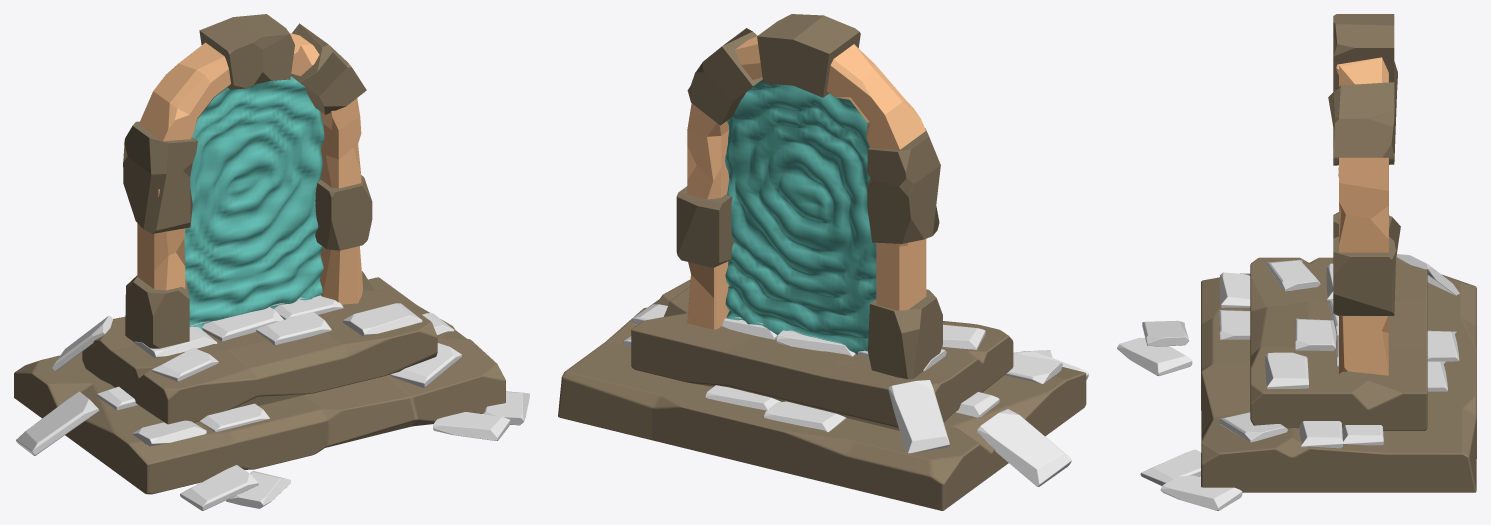
Rendered from Portal.FBX.
3 views of the same model, side by side, from view 1: azimuth 30°, elevation 25°; view 2: azimuth 150°, elevation 25°; view 3: azimuth 270°, elevation 25° (orthographic). The views are drawn at different scales.
Visible parts, largest first — view 1: Plane.003, Plane.004, Plane.001, Plane.002, Plane, Cube.009, Cube.019, Cube.016, Stone Slab, Cube.015, Cube.003, Cube.007 (+9 smaller); view 2: Plane.003, Plane.004, Plane.001, Plane.002, Plane, Cube.009, Cube.014, Cube.013, Cube.002, Cube.012, Cube.003, Cube.004 (+2 smaller); view 3: Plane.004, Plane.002, Plane.001, Plane, Cube.017, Cube.018, Stone Slab, Cube.015, Cube.016, Cube.004, Cube.011, Cube.019 (+7 smaller).
Part boxes in pixels (left/top/right/bottom): Plane.003: left=184, top=76, right=324, bottom=329; Plane.004: left=14, top=277, right=505, bottom=494; Plane.001: left=123, top=14, right=372, bottom=348; Plane.002: left=82, top=271, right=437, bottom=424; Plane: left=137, top=33, right=363, bottom=304; Cube.009: left=16, top=391, right=99, bottom=455; Cube.019: left=180, top=465, right=258, bottom=510; Cube.016: left=433, top=412, right=510, bottom=440; Stone Slab: left=343, top=303, right=422, bottom=336; Cube.015: left=256, top=312, right=331, bottom=345; Cube.003: left=202, top=307, right=283, bottom=341; Cube.007: left=390, top=343, right=461, bottom=387; Plane.003: left=725, top=79, right=876, bottom=354; Plane.004: left=558, top=279, right=1086, bottom=510; Plane.001: left=676, top=14, right=942, bottom=379; Plane.002: left=631, top=287, right=1013, bottom=430; Plane: left=687, top=36, right=926, bottom=329; Cube.009: left=976, top=409, right=1071, bottom=486; Cube.014: left=888, top=380, right=949, bottom=453; Cube.013: left=763, top=401, right=846, bottom=431; Cube.002: left=1004, top=353, right=1062, bottom=383; Cube.012: left=705, top=385, right=781, bottom=410; Cube.003: left=776, top=330, right=855, bottom=356; Cube.004: left=942, top=324, right=985, bottom=349; Plane.004: left=1201, top=273, right=1476, bottom=492; Plane.002: left=1250, top=257, right=1427, bottom=430; Plane.001: left=1328, top=14, right=1400, bottom=315; Plane: left=1336, top=57, right=1388, bottom=375; Cube.017: left=1160, top=475, right=1242, bottom=510; Cube.018: left=1117, top=337, right=1192, bottom=375; Stone Slab: left=1265, top=352, right=1308, bottom=389; Cube.015: left=1295, top=318, right=1336, bottom=351; Cube.016: left=1140, top=449, right=1201, bottom=485; Cube.004: left=1267, top=259, right=1320, bottom=291; Cube.011: left=1299, top=421, right=1342, bottom=448; Cube.019: left=1142, top=320, right=1189, bottom=346.
Bounding box in the file's own units: 233 × 160 × 187.
